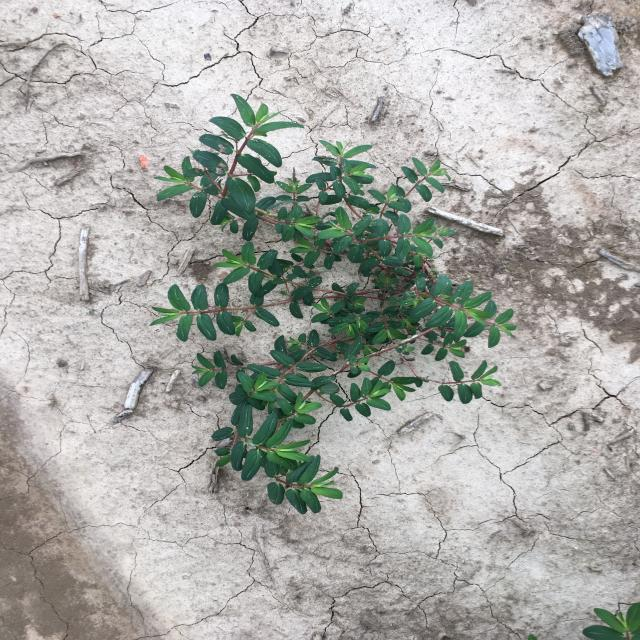SpottedSpurge: (149, 93, 517, 515)
